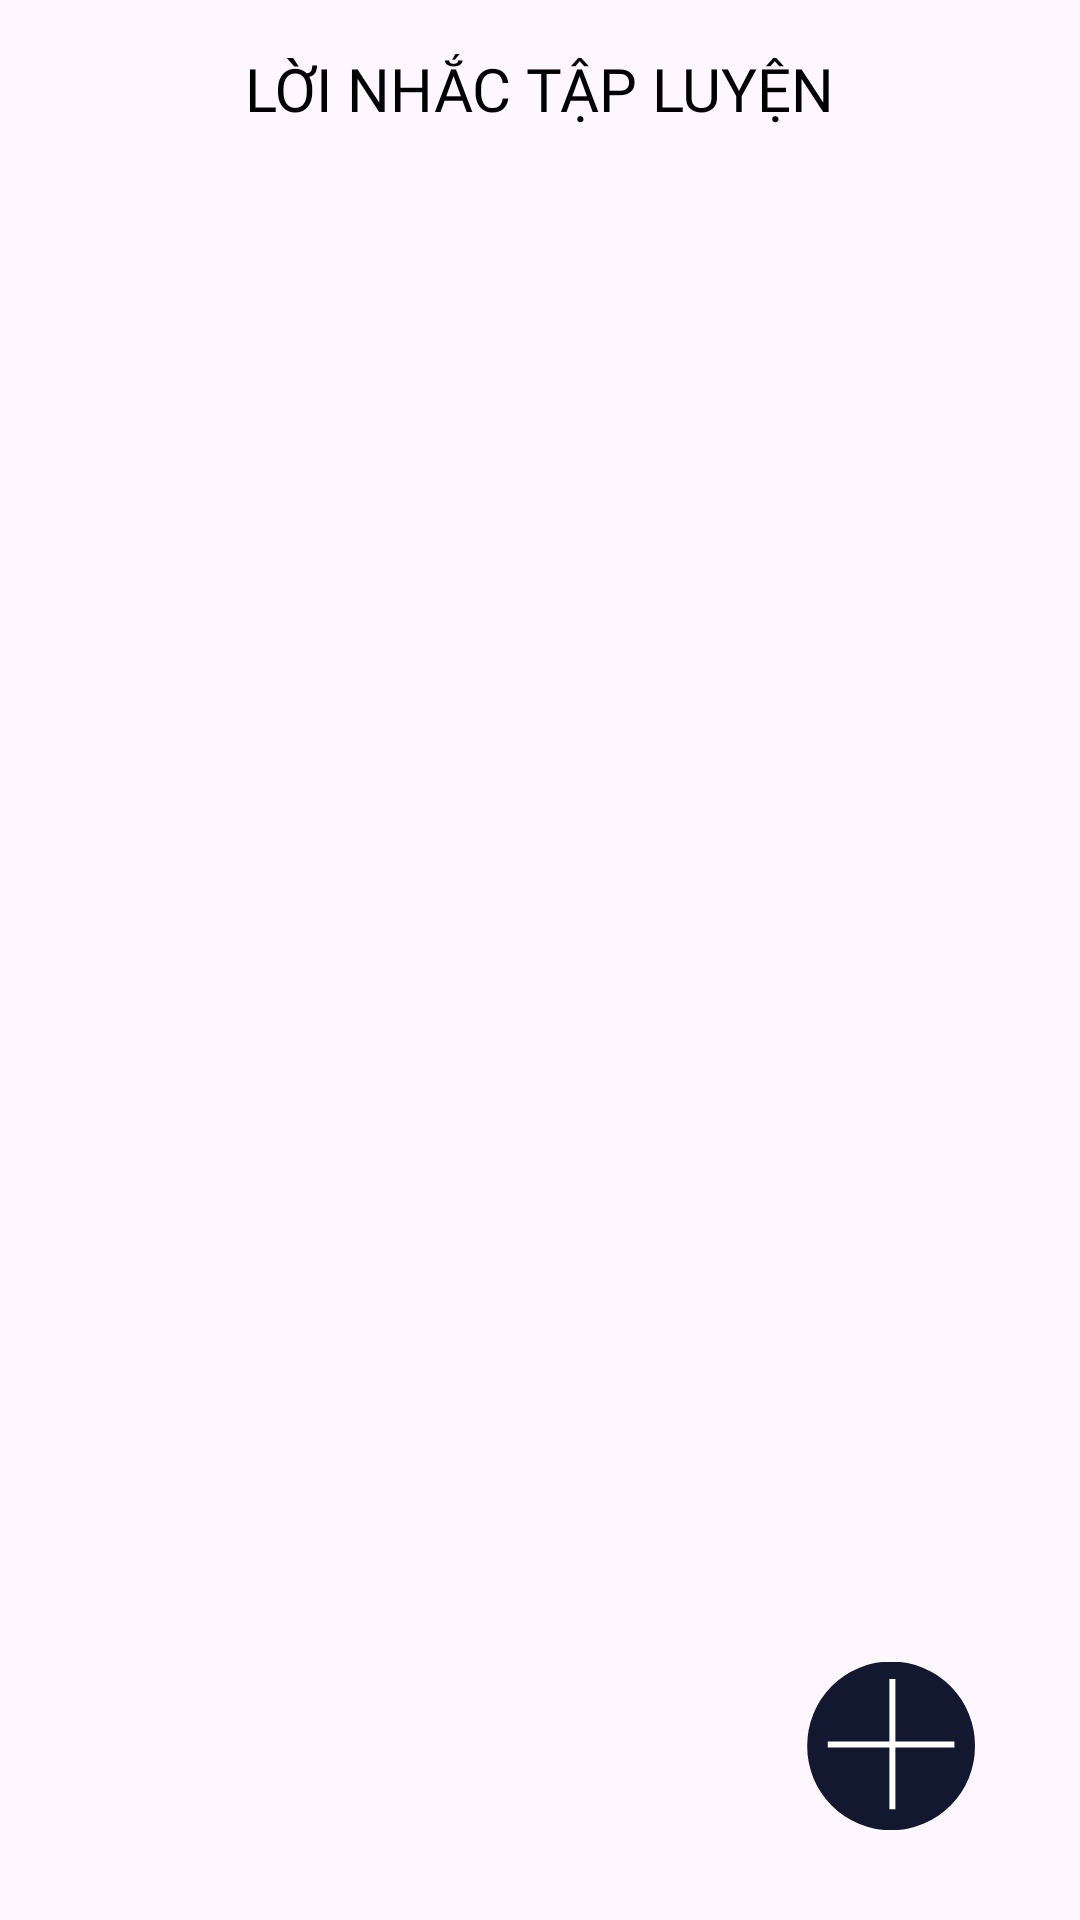

Point at icon controls on the screen. Image size 1080 x 1920, points as (x,y).
add reminder: (891,1746)
